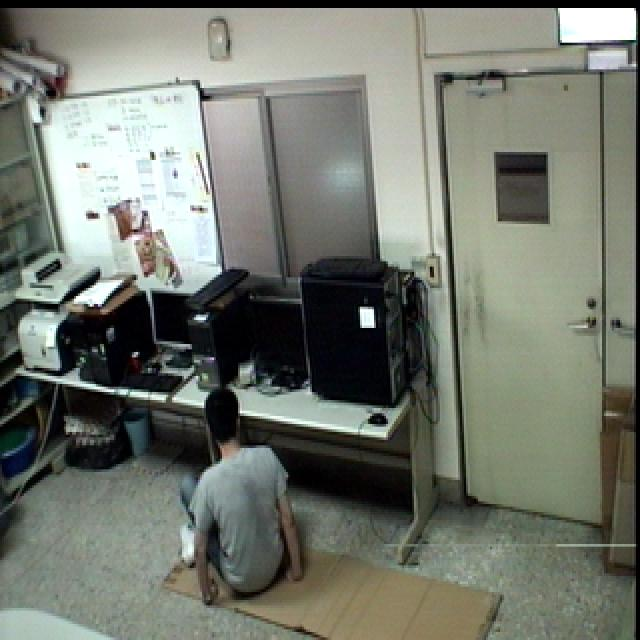sit: (165, 383, 308, 613)
